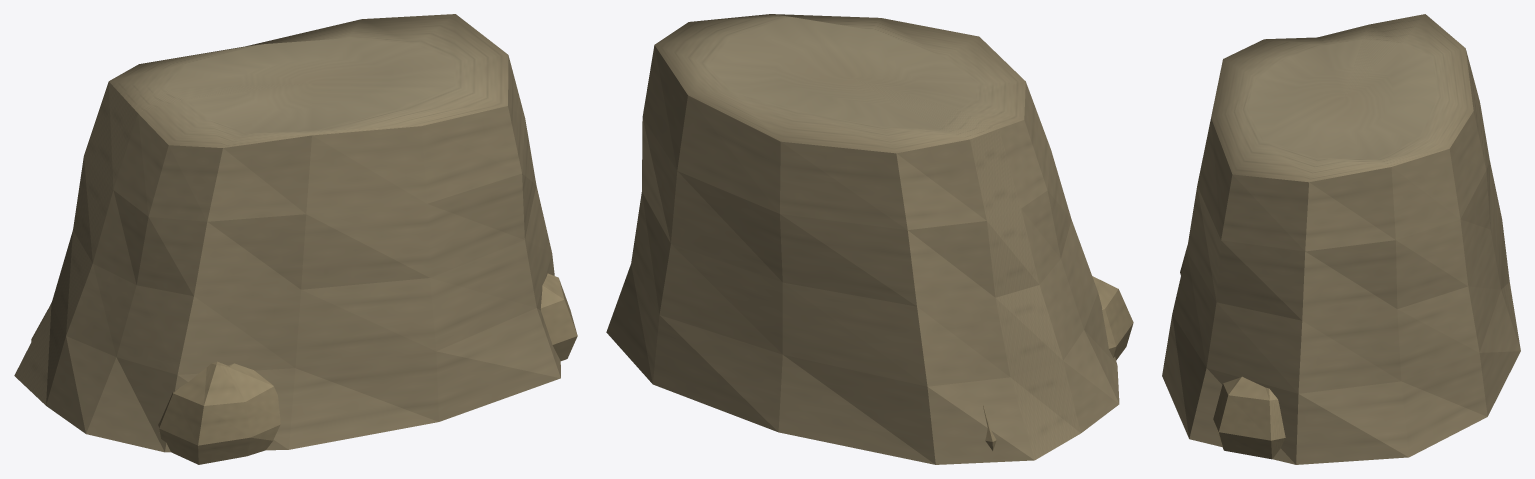
File: cliff-sandstone-lod1.glb
3 views of the same model, side by side, from view 1: azimuth 30°, elevation 25°; view 2: azimuth 150°, elevation 25°; view 3: azimuth 270°, elevation 25° (orthographic). The views are drawn at different scales.
Size of the model in its own units: 0.5099 by 0.297 by 0.3542.
Materials: 1 (1 with a texture image).
